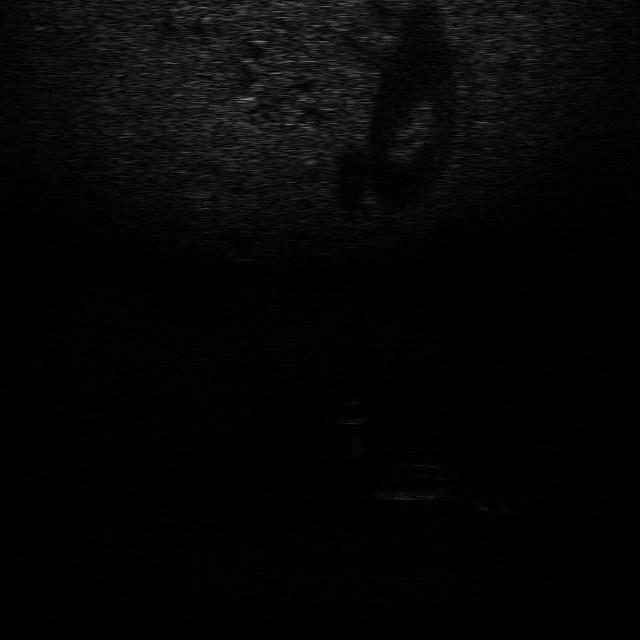ball: (326, 395, 376, 427)
tyre: (368, 458, 458, 502)
